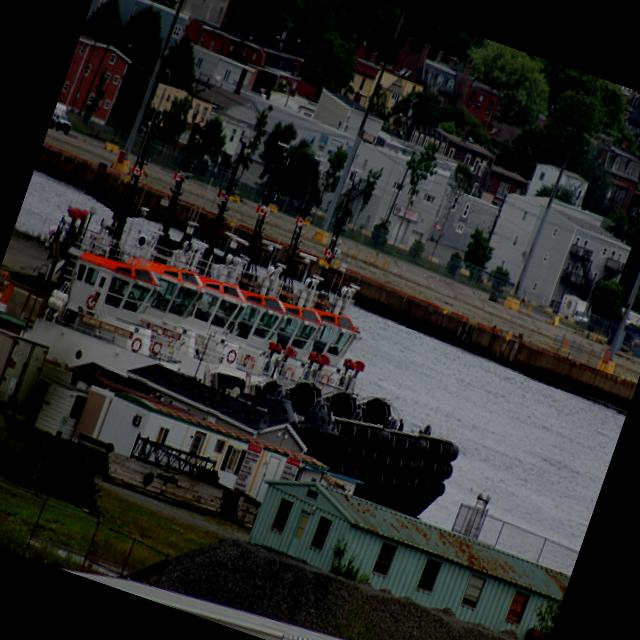Vehicle: (553, 291, 597, 333), (48, 108, 74, 135), (573, 314, 591, 329)
